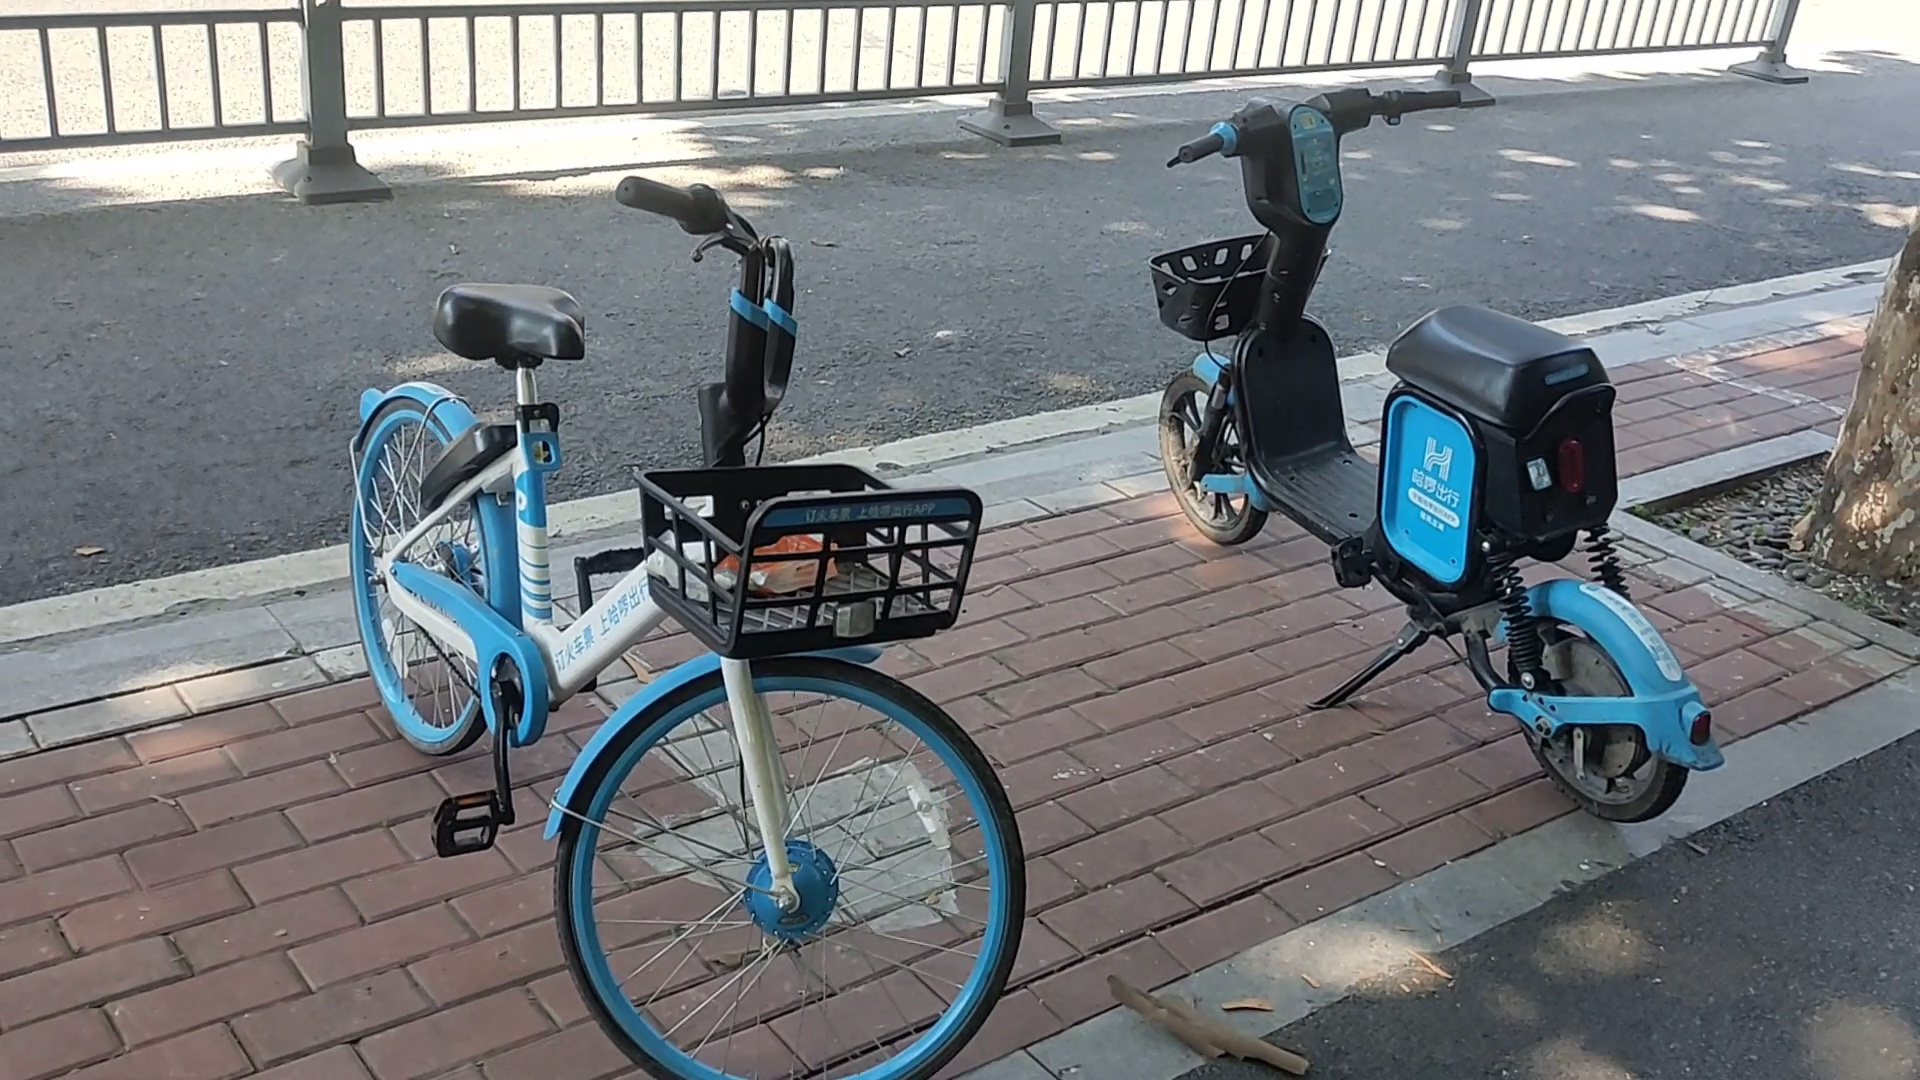non-vehicle: (334, 123, 1013, 1054), (1092, 73, 1710, 864)
